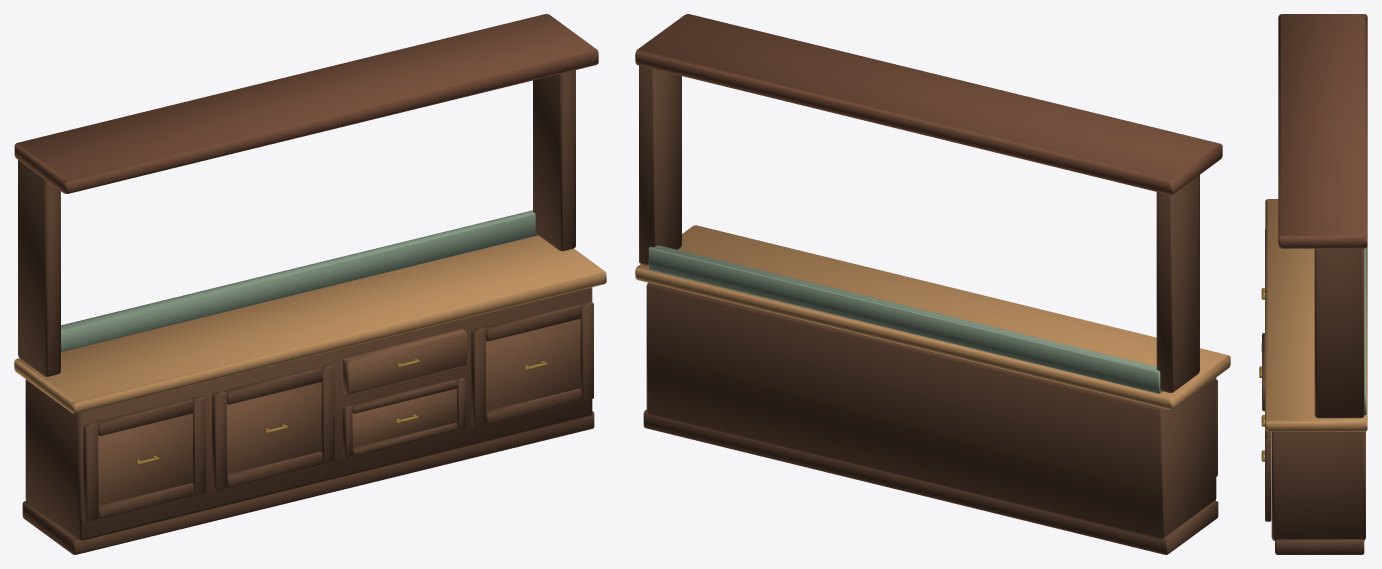
The model's file is asset_062_back_counter_storage_cabinets.glb.
3 renders of one model, left to right at view 1: azimuth 30°, elevation 25°; view 2: azimuth 150°, elevation 25°; view 3: azimuth 270°, elevation 25°, orthographic. The views are drawn at different scales.
Visible parts, largest first — view 1: MESH_WallCrown, MESH_Countertop, MESH_StaticCabinetFrontSet, MESH_BaseCarcass, MESH_OpenHutchUprightSet, MESH_Backsplash, MESH_AnimatedBaseCabinetDoor, MESH_BaseToeKick, MESH_AnimatedBaseDrawer; view 2: MESH_BaseCarcass, MESH_WallCrown, MESH_Countertop, MESH_OpenHutchUprightSet, MESH_Backsplash, MESH_BaseToeKick; view 3: MESH_WallCrown, MESH_Countertop, MESH_BaseCarcass, MESH_OpenHutchUprightSet, MESH_BaseToeKick, MESH_StaticCabinetFrontSet, MESH_Backsplash, MESH_AnimatedBaseDrawer.
Boxes of the visible parts, x1=… form: MESH_WallCrown: x1=14, y1=14, x2=598, y2=193; MESH_Countertop: x1=14, y1=235, x2=606, y2=413; MESH_StaticCabinetFrontSet: x1=212, y1=301, x2=593, y2=490; MESH_BaseCarcass: x1=25, y1=287, x2=592, y2=540; MESH_OpenHutchUprightSet: x1=18, y1=70, x2=575, y2=376; MESH_Backsplash: x1=61, y1=210, x2=538, y2=351; MESH_AnimatedBaseCabinetDoor: x1=83, y1=396, x2=205, y2=522; MESH_BaseToeKick: x1=22, y1=411, x2=594, y2=554; MESH_AnimatedBaseDrawer: x1=343, y1=329, x2=466, y2=394; MESH_BaseCarcass: x1=646, y1=282, x2=1216, y2=539; MESH_WallCrown: x1=635, y1=14, x2=1222, y2=194; MESH_Countertop: x1=635, y1=225, x2=1230, y2=409; MESH_OpenHutchUprightSet: x1=639, y1=65, x2=1199, y2=392; MESH_Backsplash: x1=648, y1=245, x2=1162, y2=393; MESH_BaseToeKick: x1=643, y1=409, x2=1218, y2=554; MESH_WallCrown: x1=1278, y1=14, x2=1367, y2=248; MESH_Countertop: x1=1265, y1=199, x2=1367, y2=431; MESH_BaseCarcass: x1=1271, y1=431, x2=1365, y2=540; MESH_OpenHutchUprightSet: x1=1314, y1=248, x2=1364, y2=418; MESH_BaseToeKick: x1=1275, y1=539, x2=1364, y2=554; MESH_StaticCabinetFrontSet: x1=1265, y1=283, x2=1271, y2=521; MESH_Backsplash: x1=1364, y1=248, x2=1366, y2=415; MESH_AnimatedBaseDrawer: x1=1262, y1=333, x2=1265, y2=411.
Bounding box in the file's own units: 3.2 × 2.15 × 0.656.
